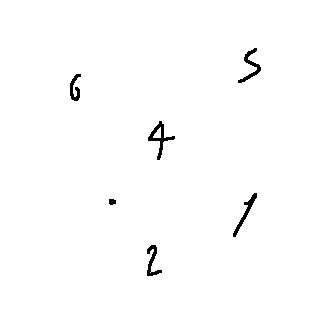.: (103, 196, 123, 210)
1: (228, 189, 260, 247)
2: (144, 238, 169, 281)
4: (145, 115, 181, 164)
5: (231, 46, 272, 91)
6: (64, 69, 90, 105)
